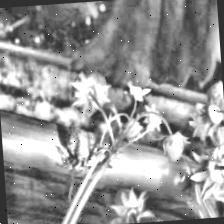Gray Mold: (60, 120, 93, 175)
